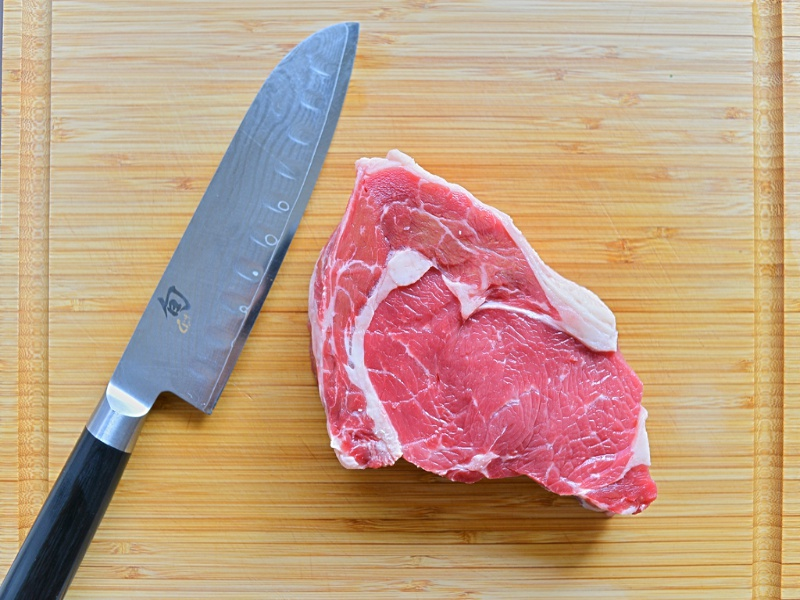knife: (1, 19, 360, 600)
